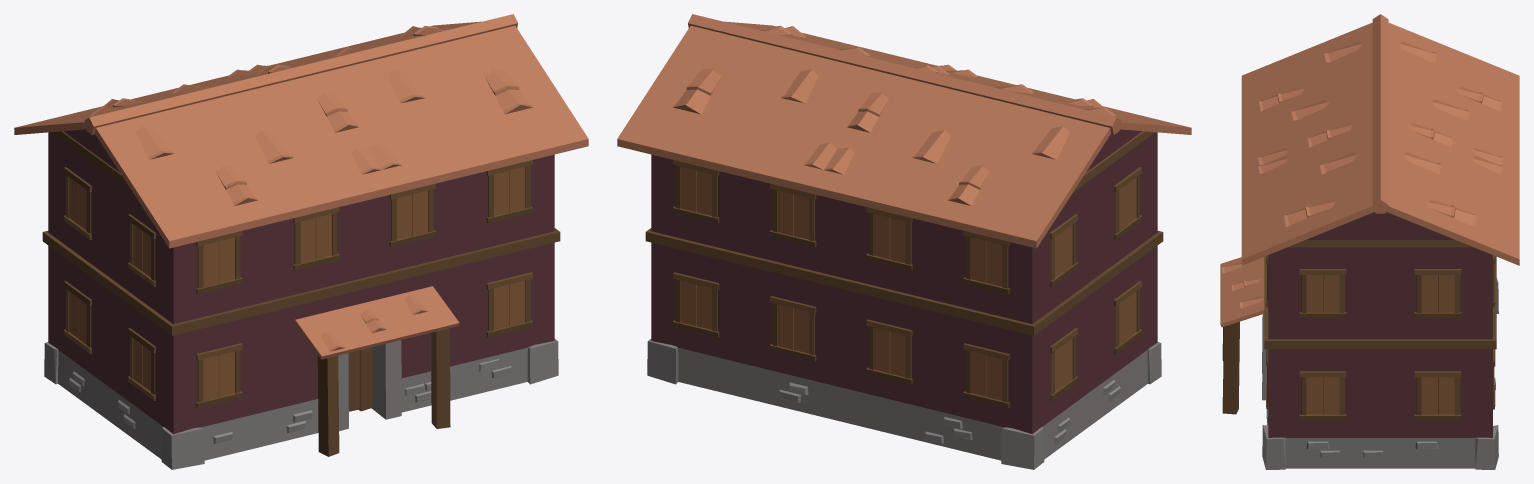
File: SM_House_Basic_Medium_Empire.fbx
The picture shows the model from 3 angles, left to right: view 1: azimuth 30°, elevation 25°; view 2: azimuth 150°, elevation 25°; view 3: azimuth 270°, elevation 25°; orthographic projection. The views are drawn at different scales.
Visible parts, largest first — view 1: SM_House_Basic_Medium_Empire; view 2: SM_House_Basic_Medium_Empire; view 3: SM_House_Basic_Medium_Empire.
Boxes of the visible parts, bbox=[...] form: SM_House_Basic_Medium_Empire: bbox=[14, 14, 588, 469]; SM_House_Basic_Medium_Empire: bbox=[617, 14, 1191, 469]; SM_House_Basic_Medium_Empire: bbox=[1220, 14, 1519, 469].
Bounding box in the file's own units: 10.4 × 7.3 × 7.08.
